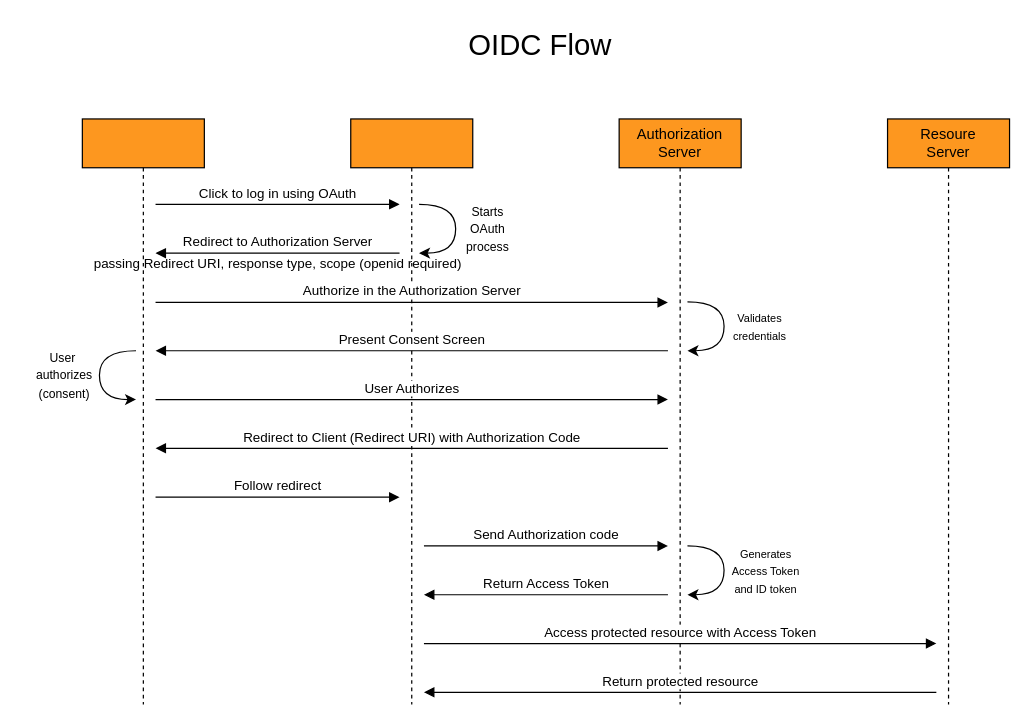
Image size: 1031x726. Some labels were removed from this diagram. The box of each missing label's shape, as (x1, y1, x2, y2) in pixels:
Client: (350, 118, 473, 705)
User (Browser): (81, 118, 204, 705)
